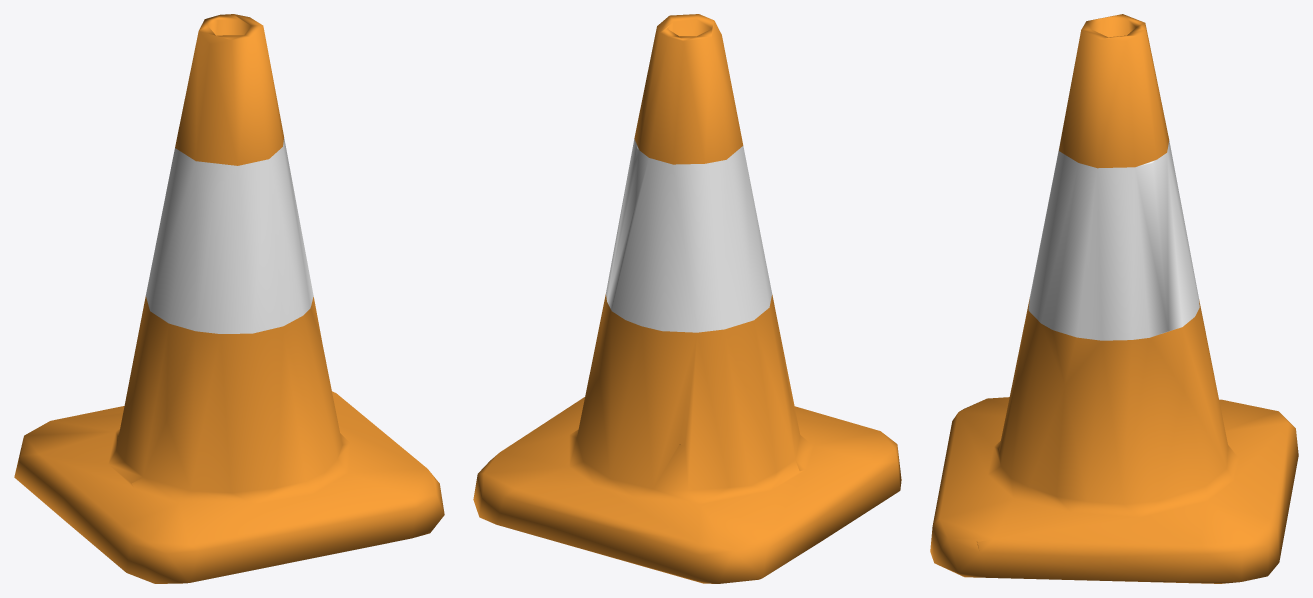
The model's file is SM_prop_cone.glb.
The picture shows the model from 3 angles, left to right: view 1: azimuth 30°, elevation 25°; view 2: azimuth 150°, elevation 25°; view 3: azimuth 270°, elevation 25°; orthographic projection. The views are drawn at different scales.
Parts seen in each view (by area): view 1: SM_prop_cone; view 2: SM_prop_cone; view 3: SM_prop_cone.
Boxes of the visible parts, box(x1,y1,x2,y2) form: SM_prop_cone: box(14, 14, 444, 583); SM_prop_cone: box(473, 14, 901, 583); SM_prop_cone: box(930, 14, 1298, 583).
Bounding box in the file's own units: 0.348 × 0.5 × 0.3464.
Materials: 1 (1 with a texture image).
